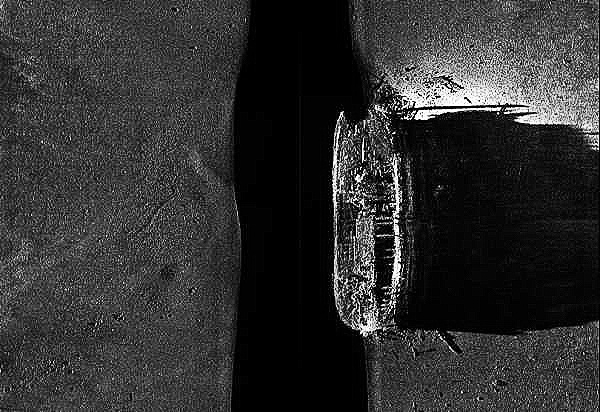ship: (326, 104, 420, 339)
